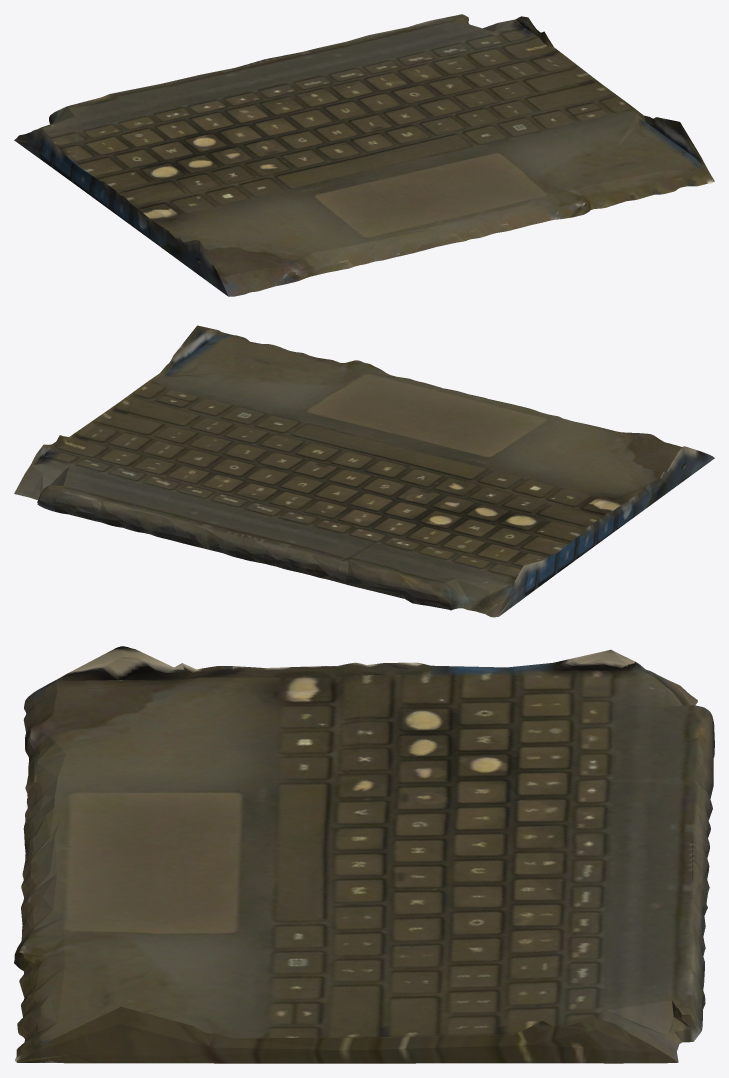
The model's file is SurfaceKeyboard.obj.
3 views of the same model, one above another, from view 1: azimuth 30°, elevation 25°; view 2: azimuth 150°, elevation 25°; view 3: azimuth 270°, elevation 25° (orthographic). The views are drawn at different scales.
Bounding box in the file's own units: 139 × 10.09 × 113.
Materials: 1 (1 with a texture image).
